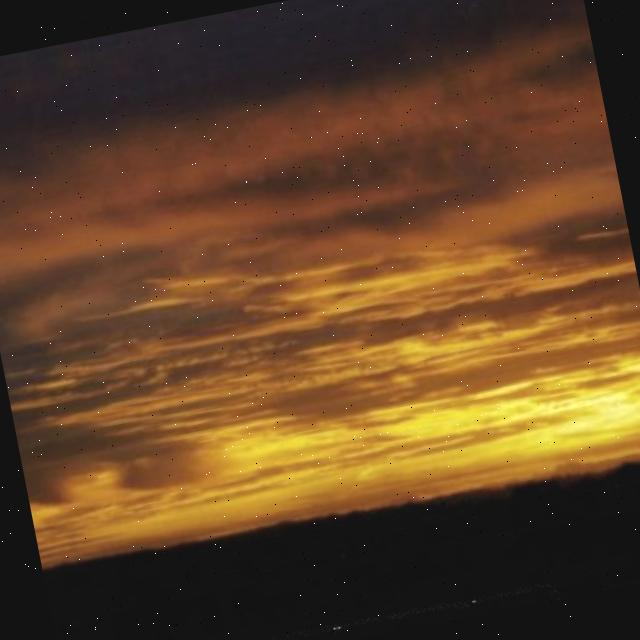As: (1, 51, 640, 542)
